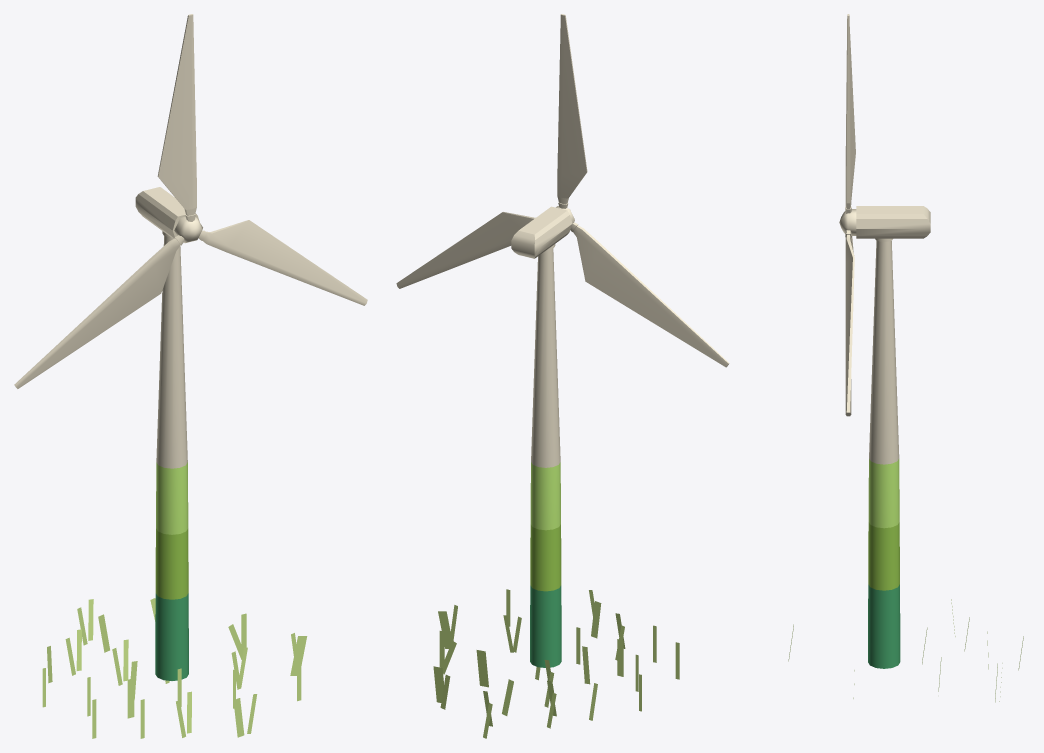
The model's file is M_Windmill_Var2_4 v2.fbx.
3 views of the same model, side by side, from view 1: azimuth 30°, elevation 25°; view 2: azimuth 150°, elevation 25°; view 3: azimuth 270°, elevation 25° (orthographic). The views are drawn at different scales.
Visible parts, largest first — view 1: M_Windmill_Var2_4; view 2: M_Windmill_Var2_4; view 3: M_Windmill_Var2_4.
Part boxes in pixels (x1,y1,x2,y2): M_Windmill_Var2_4: (14, 14, 367, 738); M_Windmill_Var2_4: (396, 14, 729, 738); M_Windmill_Var2_4: (788, 14, 1023, 702).
Bounding box in the file's own units: 2.13 × 4.03 × 1.48.
